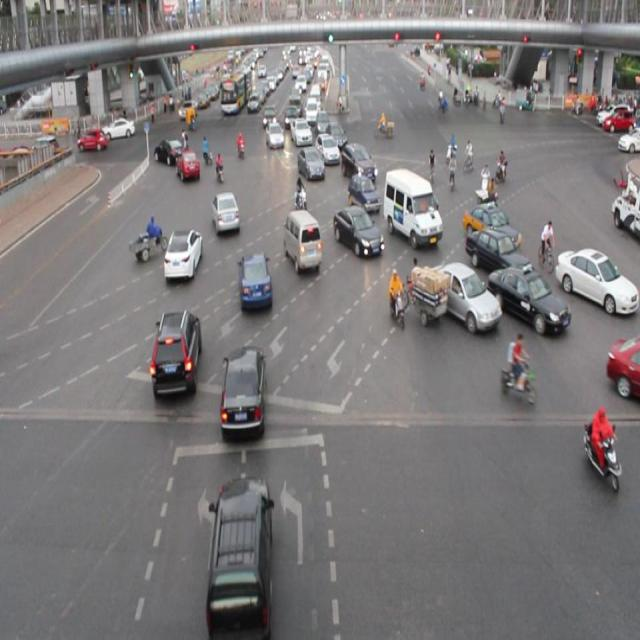car: (206, 476, 274, 640), (554, 246, 640, 316), (422, 261, 496, 330), (489, 268, 566, 332), (151, 306, 202, 402), (219, 344, 268, 438), (464, 225, 529, 278), (460, 198, 519, 248), (332, 205, 383, 258), (605, 331, 640, 401), (236, 250, 273, 314), (162, 226, 205, 281), (400, 174, 444, 224), (340, 139, 377, 182), (346, 170, 380, 214), (210, 189, 240, 238), (154, 135, 184, 170), (296, 144, 322, 182), (173, 147, 200, 182), (314, 129, 339, 166)
truck: (381, 167, 442, 244), (282, 208, 323, 273)
